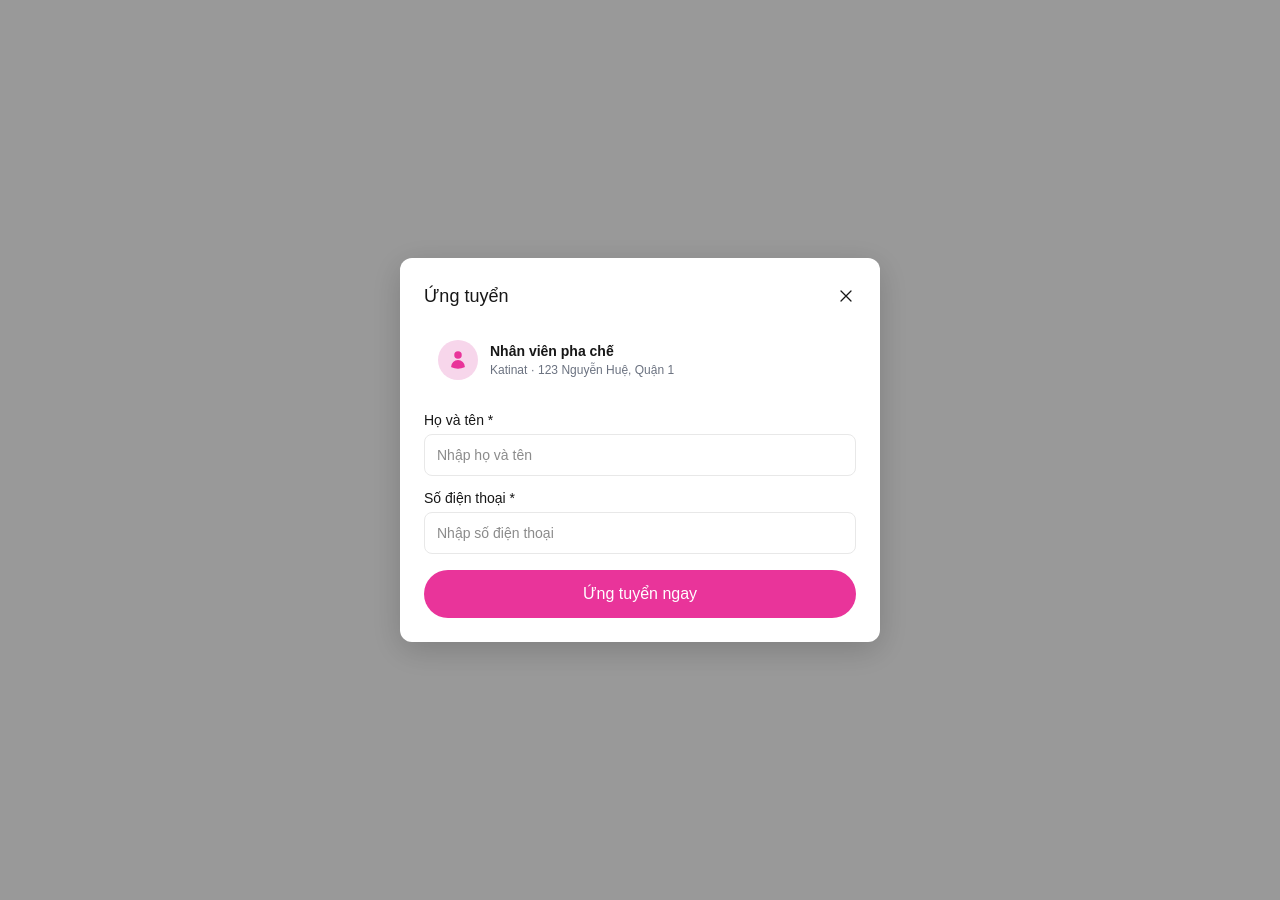
ApplyModal › disables the submit button while the form is submitting
This screenshot has width=1280, height=900.
Type "Nguyen Van A" into the field with placeholder "Nhập họ và tên" at {"x": 640, "y": 455}, box [424,434,856,476]
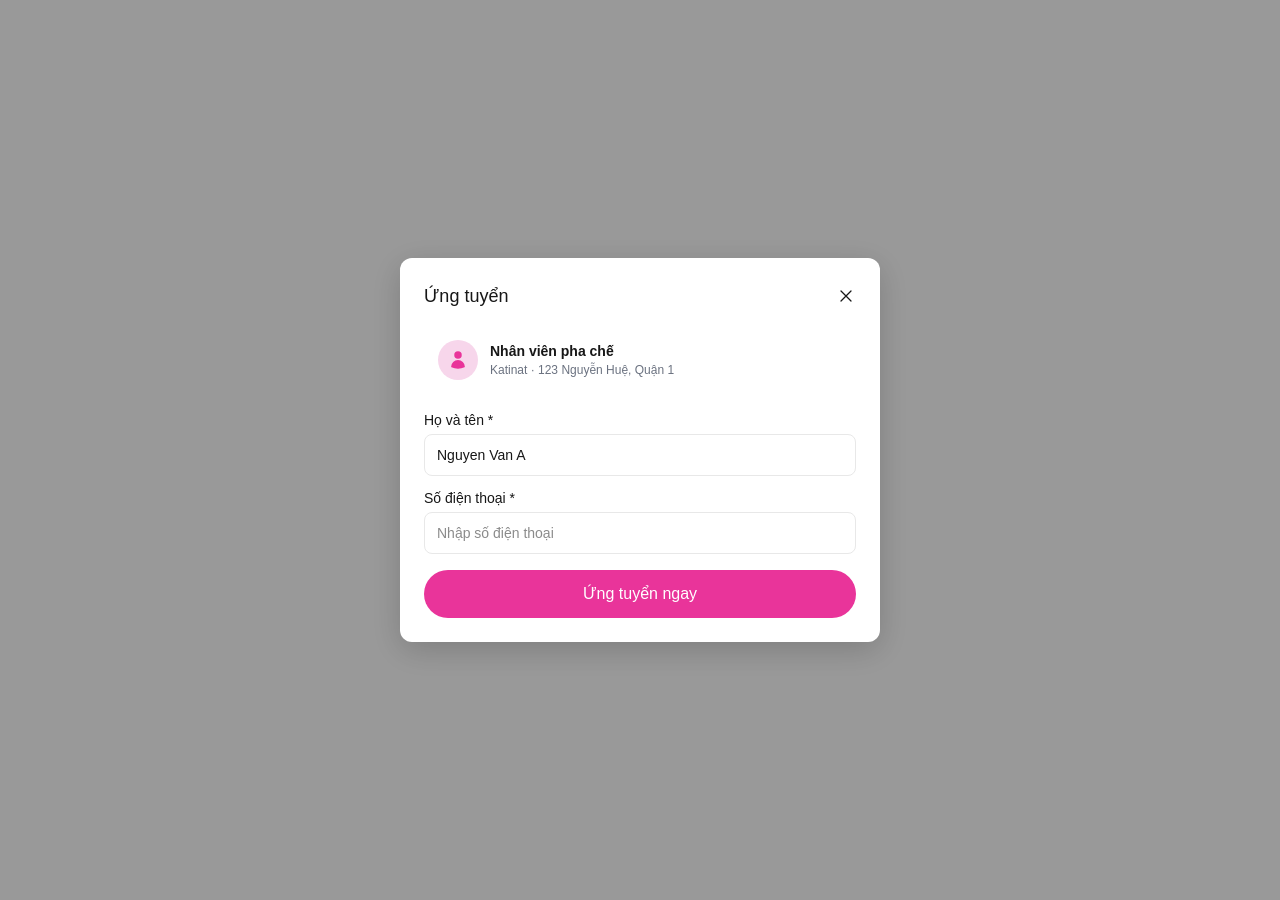
Type "0901234567" into the field with placeholder "Nhập số điện thoại" at {"x": 640, "y": 533}, box [424,512,856,554]
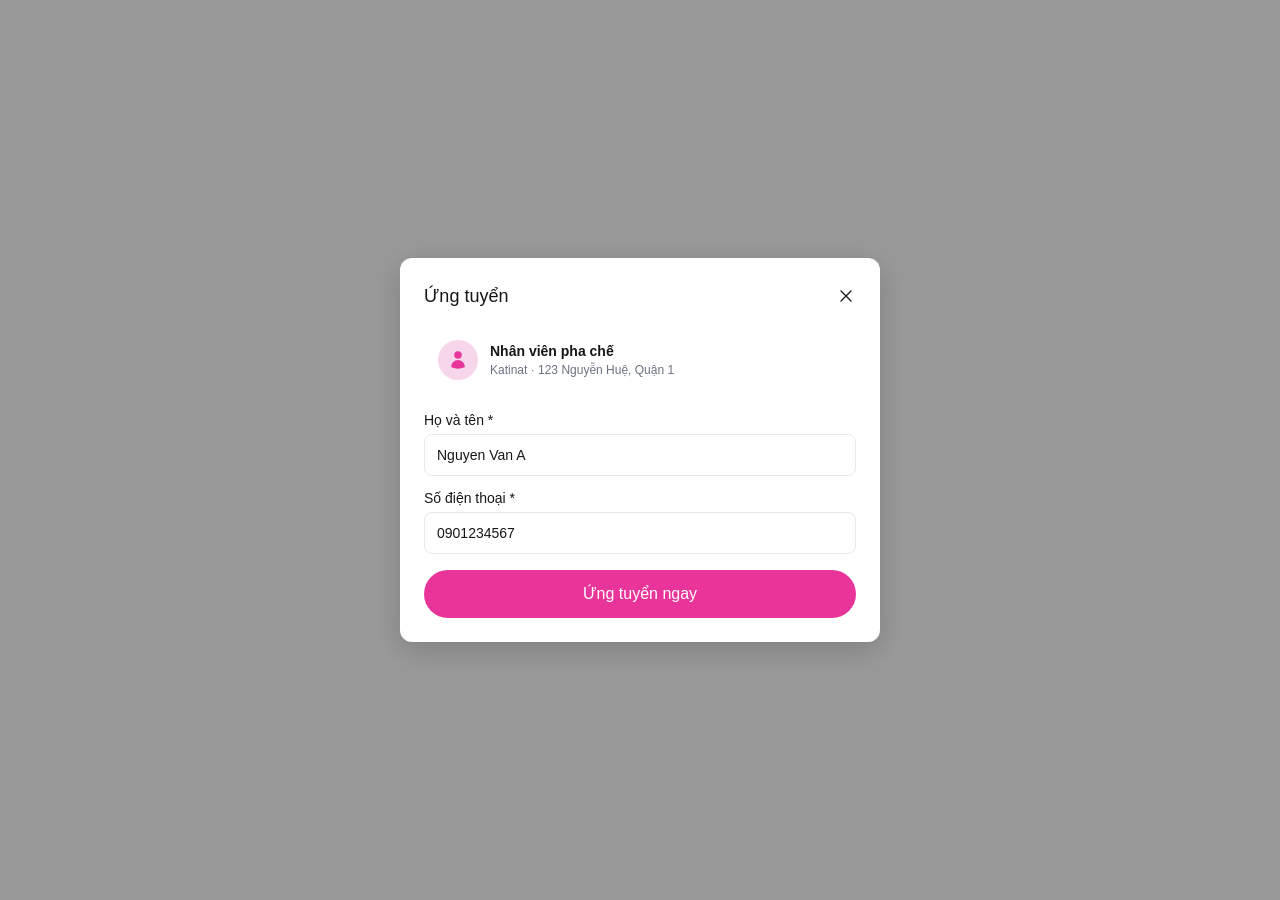
Click the button "Ứng tuyển ngay" at {"x": 640, "y": 594}, box [424,570,856,618]
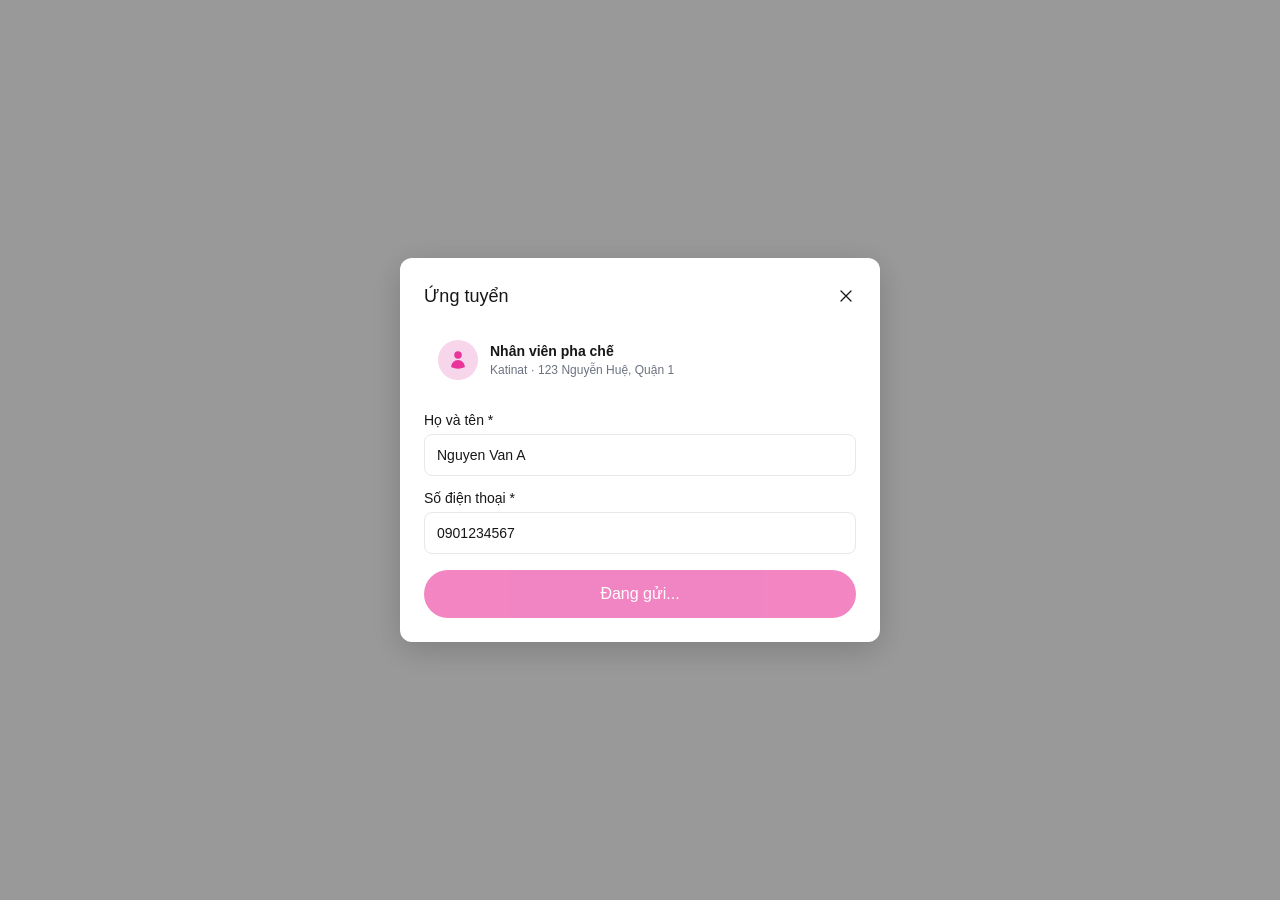
Check: the button "Đang gửi..." is disabled, box [424,570,856,618]
